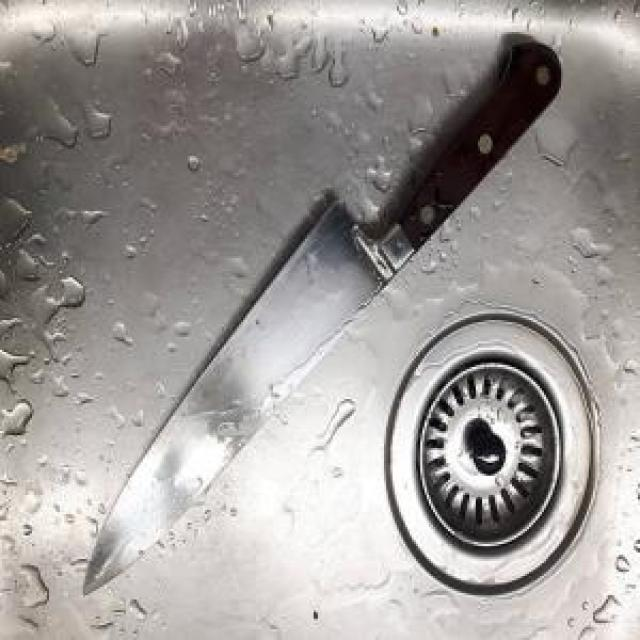knife: (84, 30, 566, 598)
